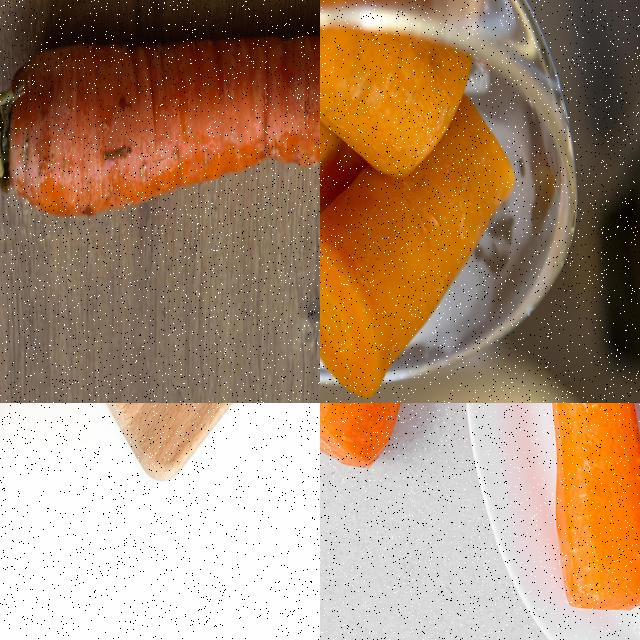carrot: (0, 0, 319, 219), (320, 105, 510, 397), (320, 0, 485, 177), (540, 403, 639, 614)
